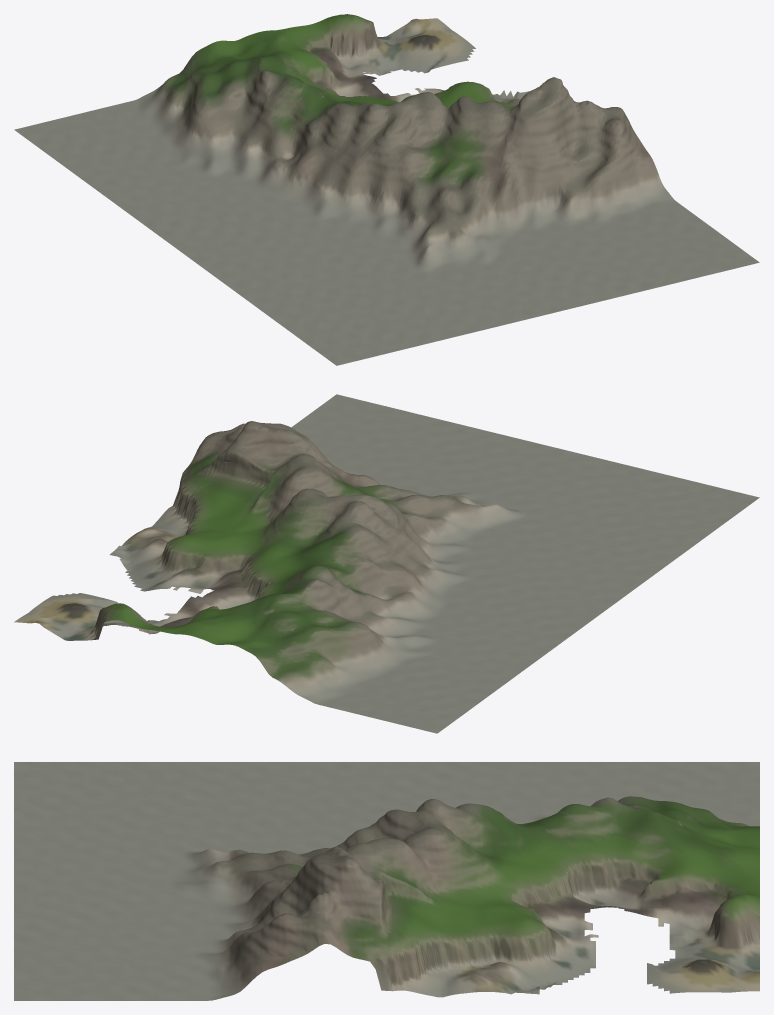
Rendered from coast_tile_x0z3.glb.
3 renders of one model, top to bottom at view 1: azimuth 30°, elevation 25°; view 2: azimuth 150°, elevation 25°; view 3: azimuth 270°, elevation 25°, orthographic. The views are drawn at different scales.
Visible parts, largest first — view 1: coast_tile_x0z3; view 2: coast_tile_x0z3; view 3: coast_tile_x0z3.
Part boxes in pixels (x1,y1,x2,y2): coast_tile_x0z3: (14, 14, 759, 365); coast_tile_x0z3: (14, 394, 759, 733); coast_tile_x0z3: (14, 762, 759, 1000).
Bounding box in the file's own units: 600 × 127 × 792.
